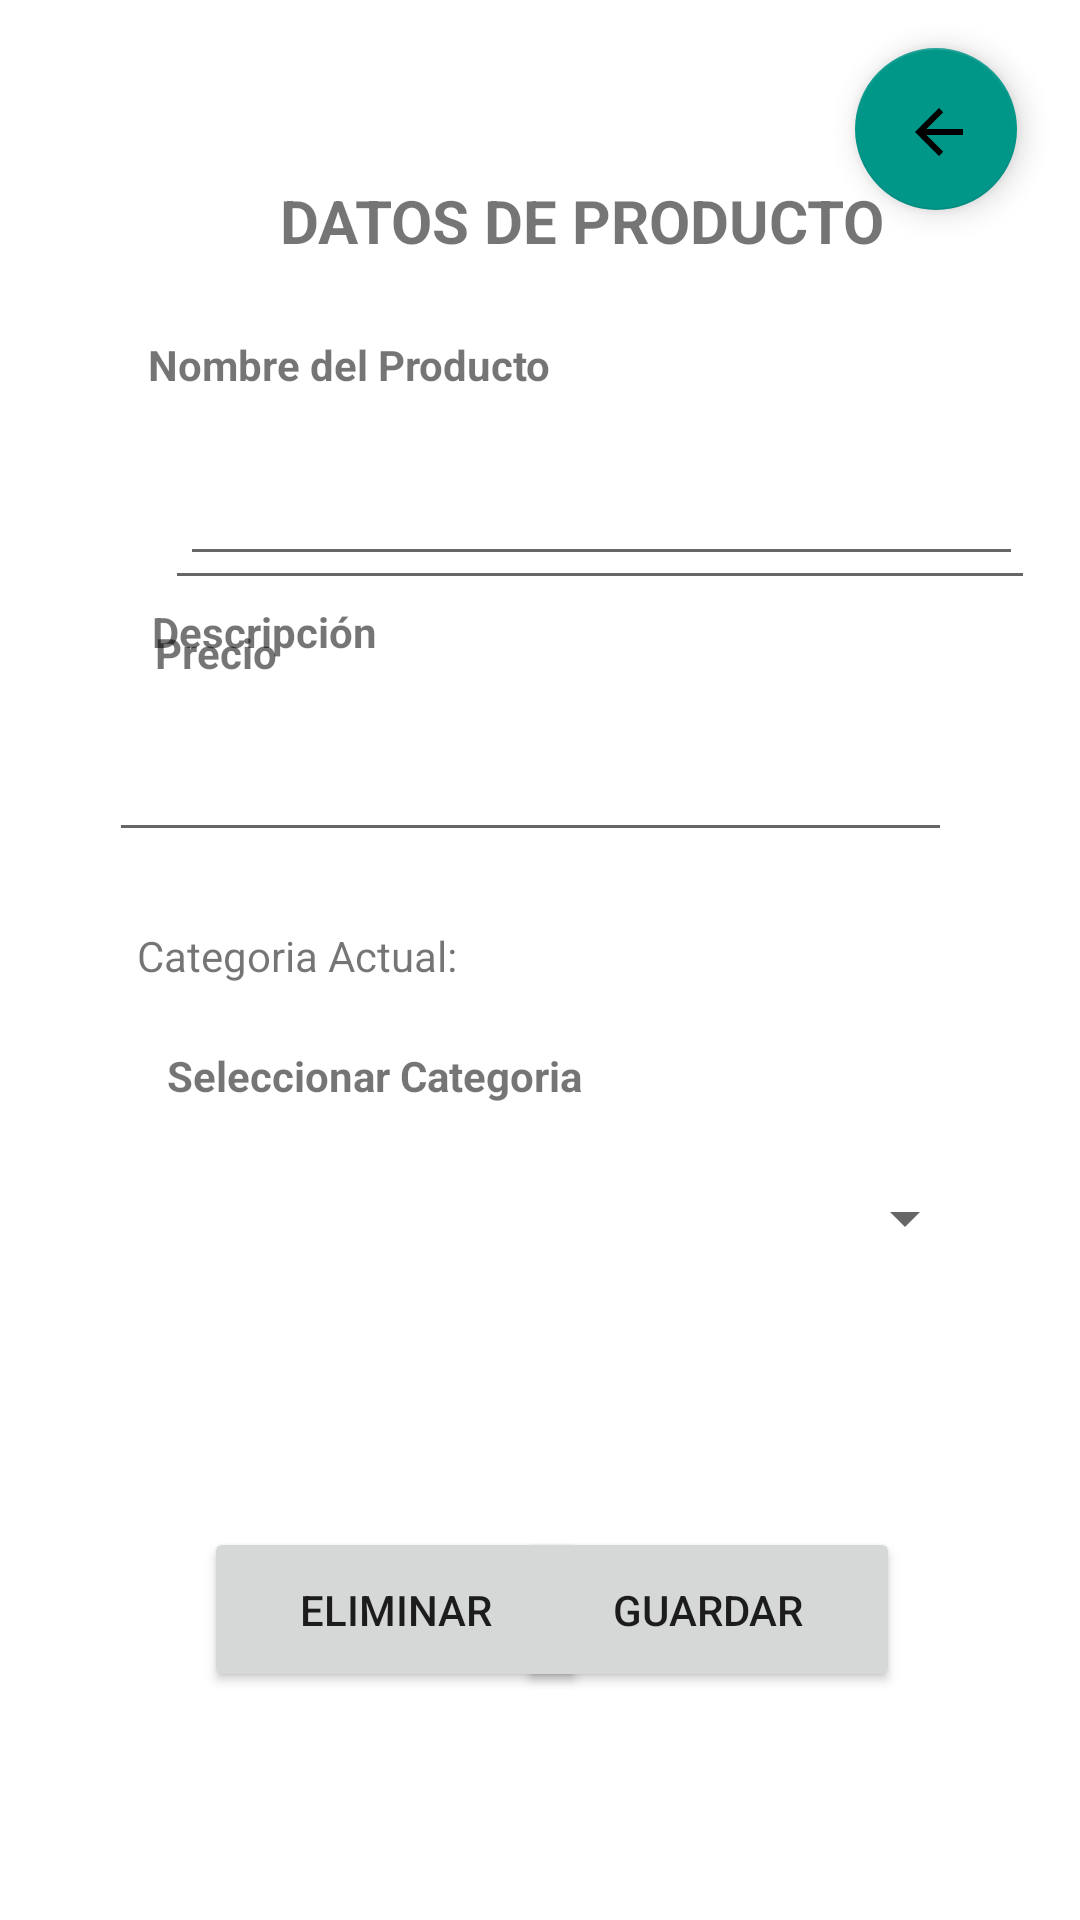

Icons on this 1080 × 1920 Android screen, each with the point to tap as (x,y):
back: (936,129)
